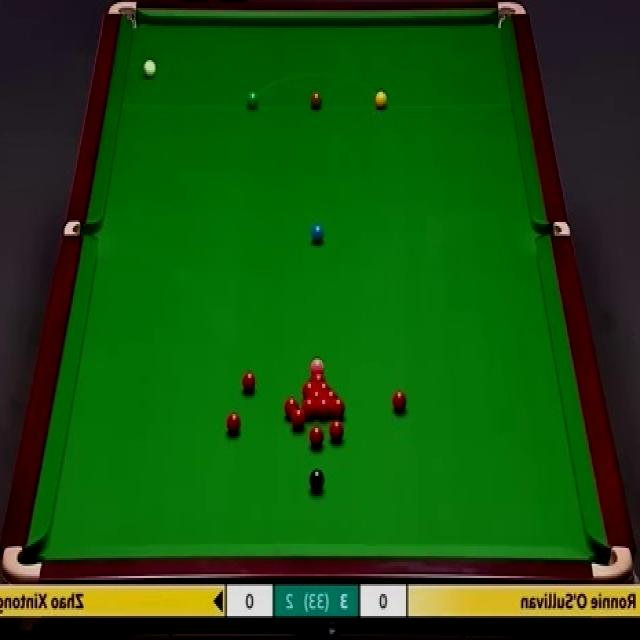pocket: (1, 540, 43, 582), (591, 542, 634, 582), (497, 1, 530, 30), (106, 1, 137, 30), (537, 219, 571, 239), (63, 221, 97, 240)
